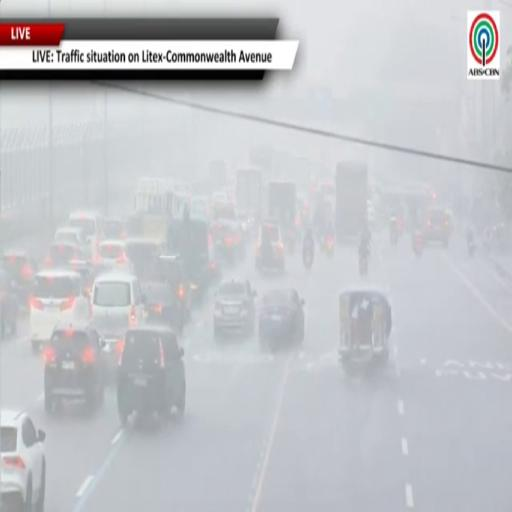car: (117, 326, 185, 426), (44, 325, 106, 412), (30, 270, 89, 351), (0, 409, 46, 511), (91, 271, 145, 327), (152, 255, 194, 321), (259, 288, 305, 348), (90, 316, 128, 383), (214, 280, 256, 339), (142, 282, 187, 333), (0, 250, 38, 308), (68, 260, 114, 297), (68, 211, 103, 257), (126, 238, 163, 280), (256, 221, 285, 271), (211, 220, 244, 263), (0, 267, 19, 340), (95, 239, 133, 271), (423, 207, 451, 247), (44, 242, 87, 267), (54, 227, 86, 247), (102, 217, 128, 240)
motorcycle: (412, 234, 423, 258), (466, 232, 476, 257), (303, 248, 314, 269), (390, 218, 398, 245), (359, 255, 368, 276), (325, 236, 333, 257), (390, 230, 398, 245)
truck: (335, 162, 368, 242), (267, 181, 297, 247), (236, 166, 263, 222), (209, 159, 227, 189)
